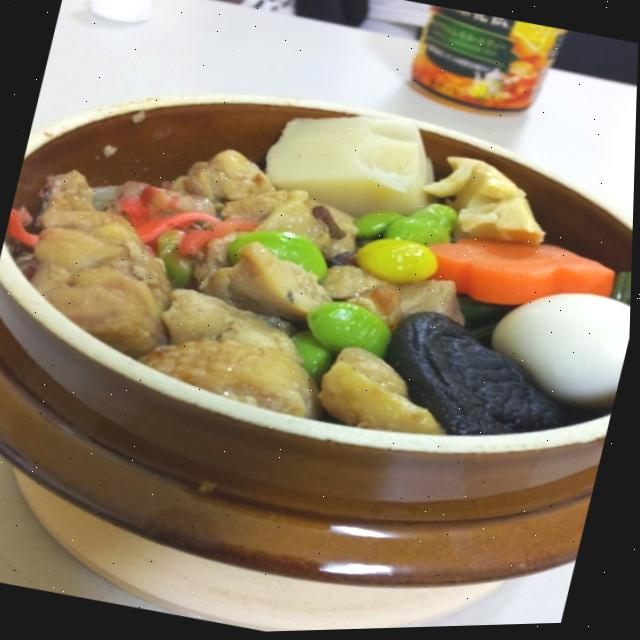鸡肉料理 含炸鸡: (72, 131, 514, 593)
